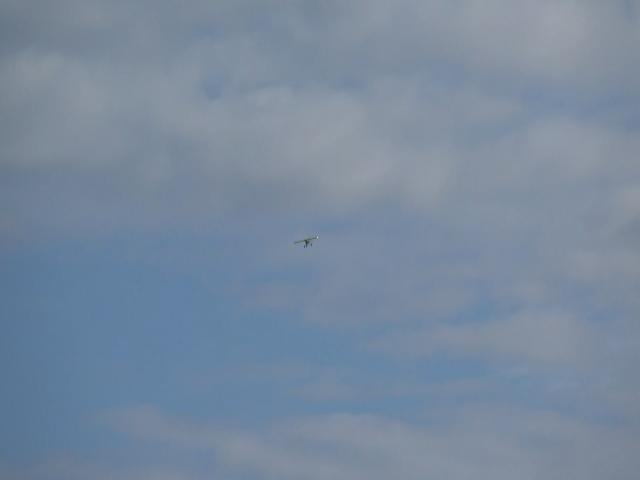plane: (293, 236, 319, 248)
